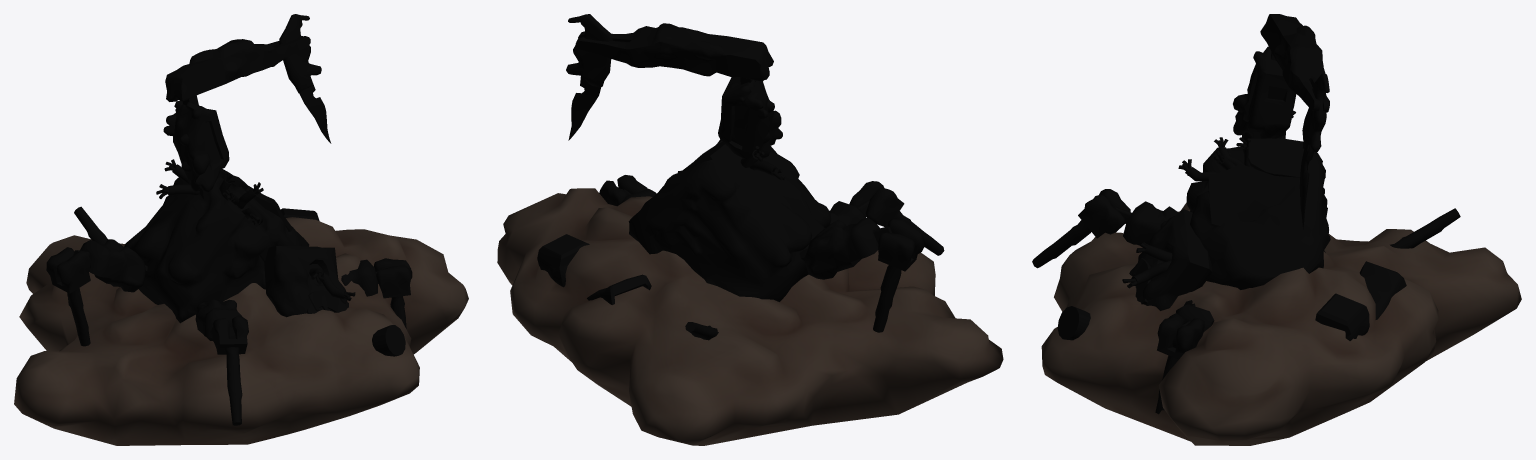
File: env_burntforest_meltedbot03.fbx
The picture shows the model from 3 angles, left to right: view 1: azimuth 30°, elevation 25°; view 2: azimuth 150°, elevation 25°; view 3: azimuth 270°, elevation 25°; orthographic projection. The views are drawn at different scales.
Visible parts, largest first — view 1: env_forest_meltedbot03; view 2: env_forest_meltedbot03; view 3: env_forest_meltedbot03.
Boxes of the visible parts, x1,y1,x2,y2 form: env_forest_meltedbot03: (14,14,468,445); env_forest_meltedbot03: (497,14,1003,445); env_forest_meltedbot03: (1032,14,1521,445).
Size of the model in its own units: 23.68 by 18.01 by 20.73.
